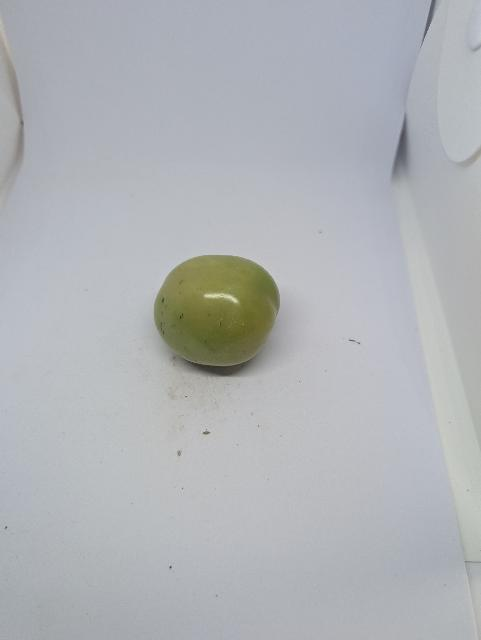green: (152, 254, 282, 370)
